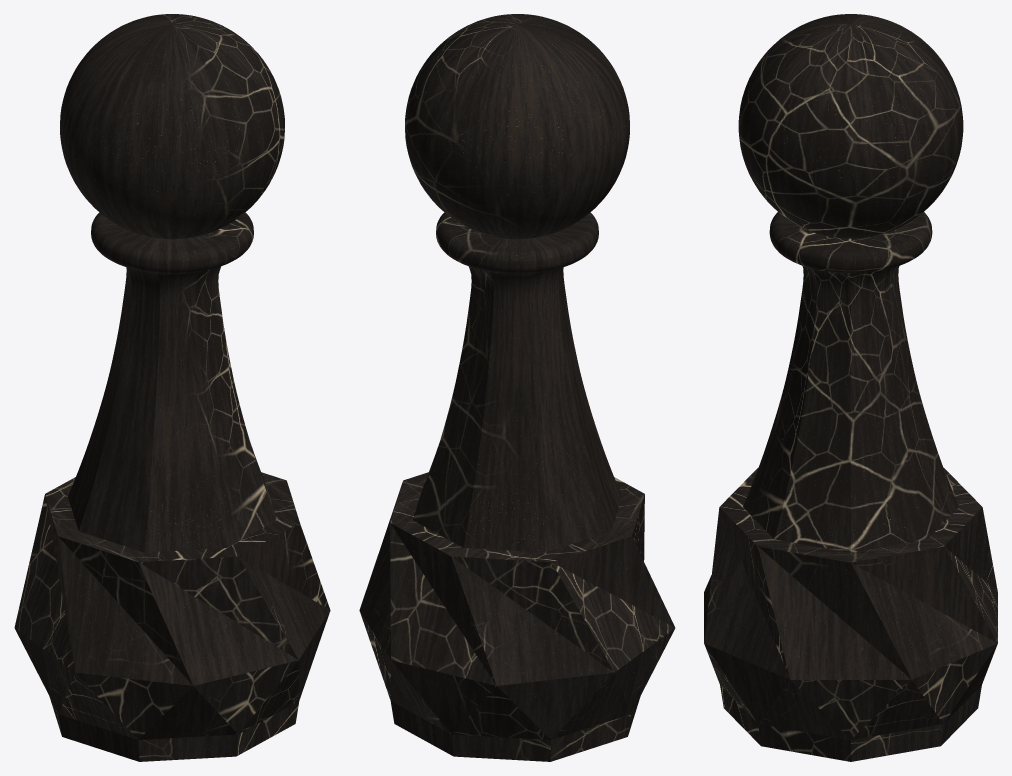
File: pawn-black-hd.glb
The picture shows the model from 3 angles, left to right: view 1: azimuth 30°, elevation 25°; view 2: azimuth 150°, elevation 25°; view 3: azimuth 270°, elevation 25°; orthographic projection.
Parts seen in each view (by area): view 1: Lithoxyl_Pawn_Onyx; view 2: Lithoxyl_Pawn_Onyx; view 3: Lithoxyl_Pawn_Onyx.
Part boxes in pixels (<box>): Lithoxyl_Pawn_Onyx: <box>14,14,330,761</box>; Lithoxyl_Pawn_Onyx: <box>359,14,675,761</box>; Lithoxyl_Pawn_Onyx: <box>704,14,997,761</box>.
Size of the model in its own units: 0.3739 by 0.96 by 0.3739.
Materials: 1 (1 with a texture image).
